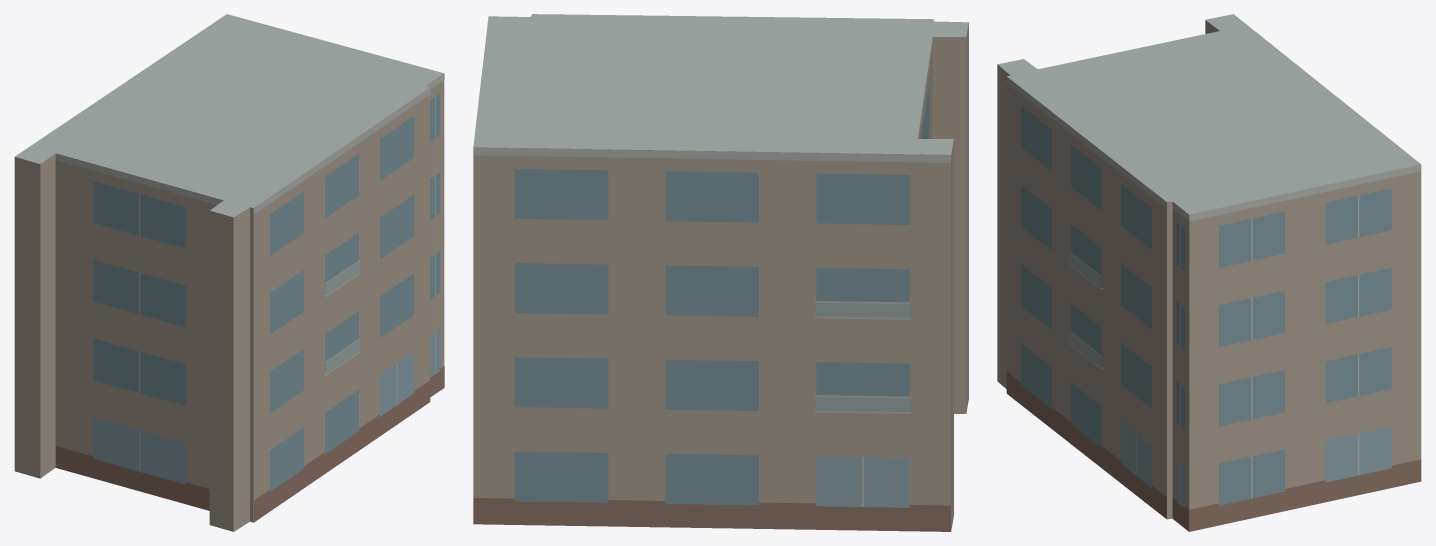
The model's file is survey-upis-32864678.glb.
3 views of the same model, side by side, from view 1: azimuth 30°, elevation 25°; view 2: azimuth 150°, elevation 25°; view 3: azimuth 270°, elevation 25° (orthographic). The views are drawn at different scales.
Visible parts, largest first — view 1: survey-upis-32864678.tmp; view 2: survey-upis-32864678.tmp; view 3: survey-upis-32864678.tmp.
Boxes of the visible parts, x1,y1,x2,y2 form: survey-upis-32864678.tmp: (14, 14, 444, 531); survey-upis-32864678.tmp: (473, 14, 968, 531); survey-upis-32864678.tmp: (997, 14, 1421, 531).
Size of the model in its own units: 15.48 by 11.4 by 13.81.
